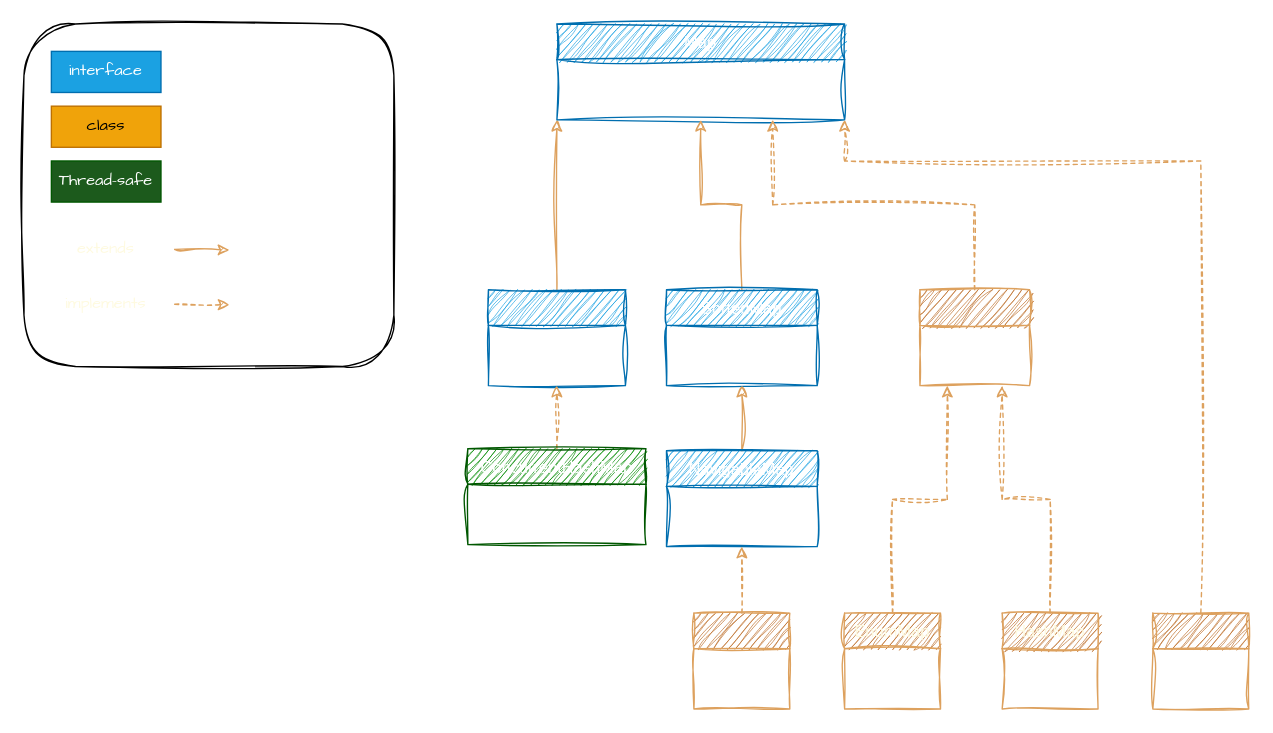
Some shapes in this 1273 by 733 pixel diagram are drawn without their labels. Each missing label, with the centre of its shape:
"AbstractMap" goes at point (974, 337).
"ConcurrentMap" goes at point (556, 337).
"HashTable" goes at point (1200, 660).
"TreeMap" goes at point (741, 660).
